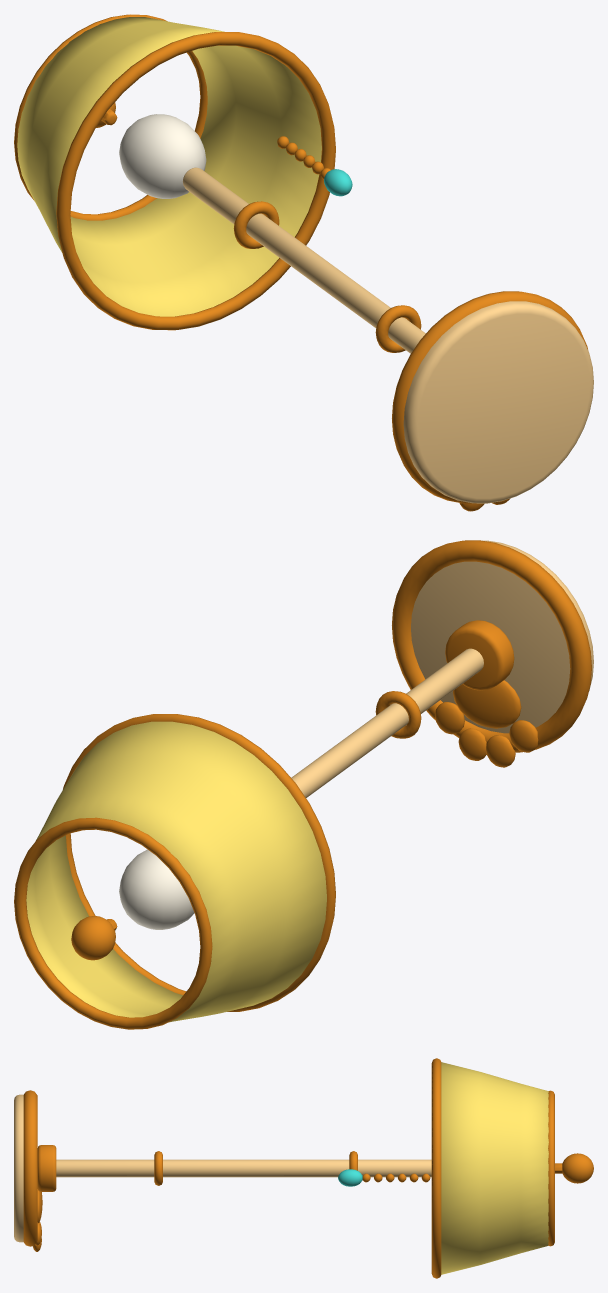
The model's file is FloorLamp_Premium.fbx.
The picture shows the model from 3 angles, top to bottom: view 1: azimuth 30°, elevation 25°; view 2: azimuth 150°, elevation 25°; view 3: azimuth 270°, elevation 25°; orthographic projection. The views are drawn at different scales.
Parts seen in each view (by area): view 1: FloorLamp; view 2: FloorLamp; view 3: FloorLamp.
Part boxes in pixels (bbox=[...]): FloorLamp: bbox=[14, 14, 593, 511]; FloorLamp: bbox=[14, 540, 593, 1029]; FloorLamp: bbox=[14, 1058, 593, 1278].
Size of the model in its own units: 0.702 by 0.702 by 1.84.
